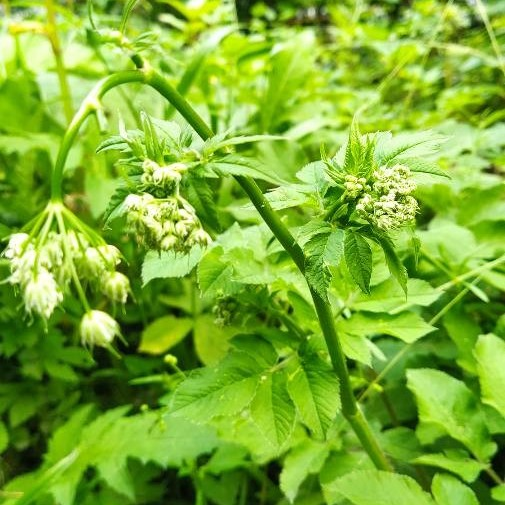obstacle: (21, 77, 478, 484)
